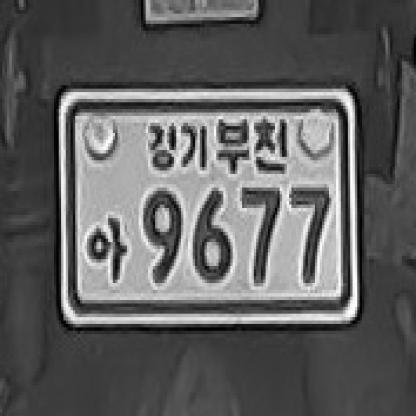bnum: (43, 77, 370, 335)
